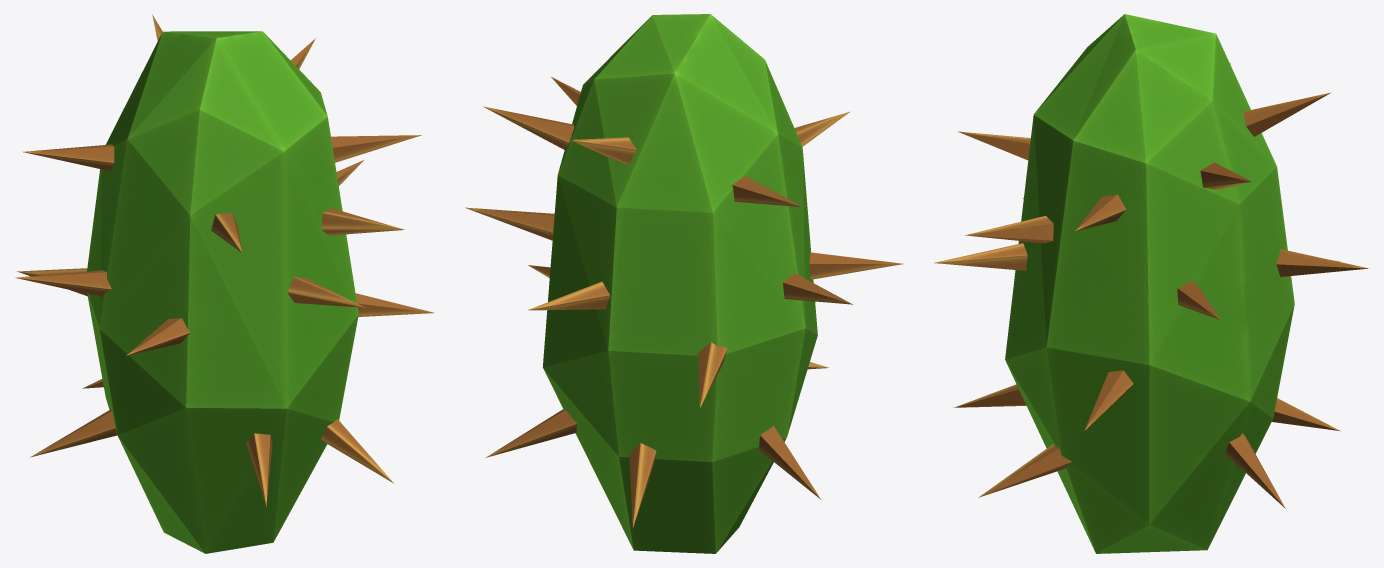
The model's file is Cactus_31.fbx.
The picture shows the model from 3 angles, left to right: view 1: azimuth 30°, elevation 25°; view 2: azimuth 150°, elevation 25°; view 3: azimuth 270°, elevation 25°; orthographic projection. The views are drawn at different scales.
Parts seen in each view (by area): view 1: Cactus_31; view 2: Cactus_31; view 3: Cactus_31.
Boxes of the visible parts, x1,y1,x2,y2 form: Cactus_31: (15,14,434,553); Cactus_31: (465,14,903,553); Cactus_31: (934,14,1369,553).
Bounding box in the file's own units: 24.15 × 31.46 × 24.02.
